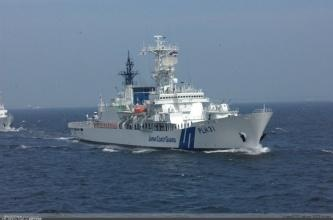warship: (66, 32, 274, 152)
